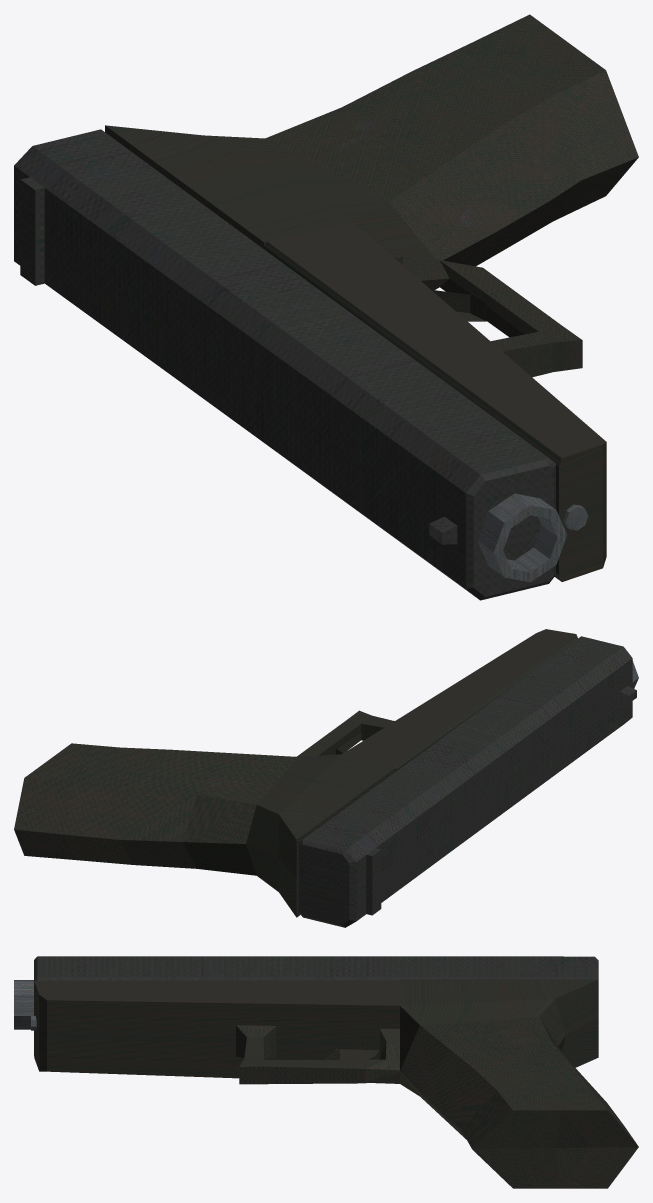
File: weapon_G21_pickup.glb
The picture shows the model from 3 angles, top to bottom: view 1: azimuth 30°, elevation 25°; view 2: azimuth 150°, elevation 25°; view 3: azimuth 270°, elevation 25°; orthographic projection. The views are drawn at different scales.
Visible parts, largest first — view 1: MeshInstance3D; view 2: MeshInstance3D; view 3: MeshInstance3D.
Part boxes in pixels (x1,y1,x2,y2): MeshInstance3D: (14,14,638,600); MeshInstance3D: (14,629,638,927); MeshInstance3D: (14,956,638,1188).
Size of the model in its own units: 12.87 by 2.87 by 20.82.
3 materials, 3 textured.
